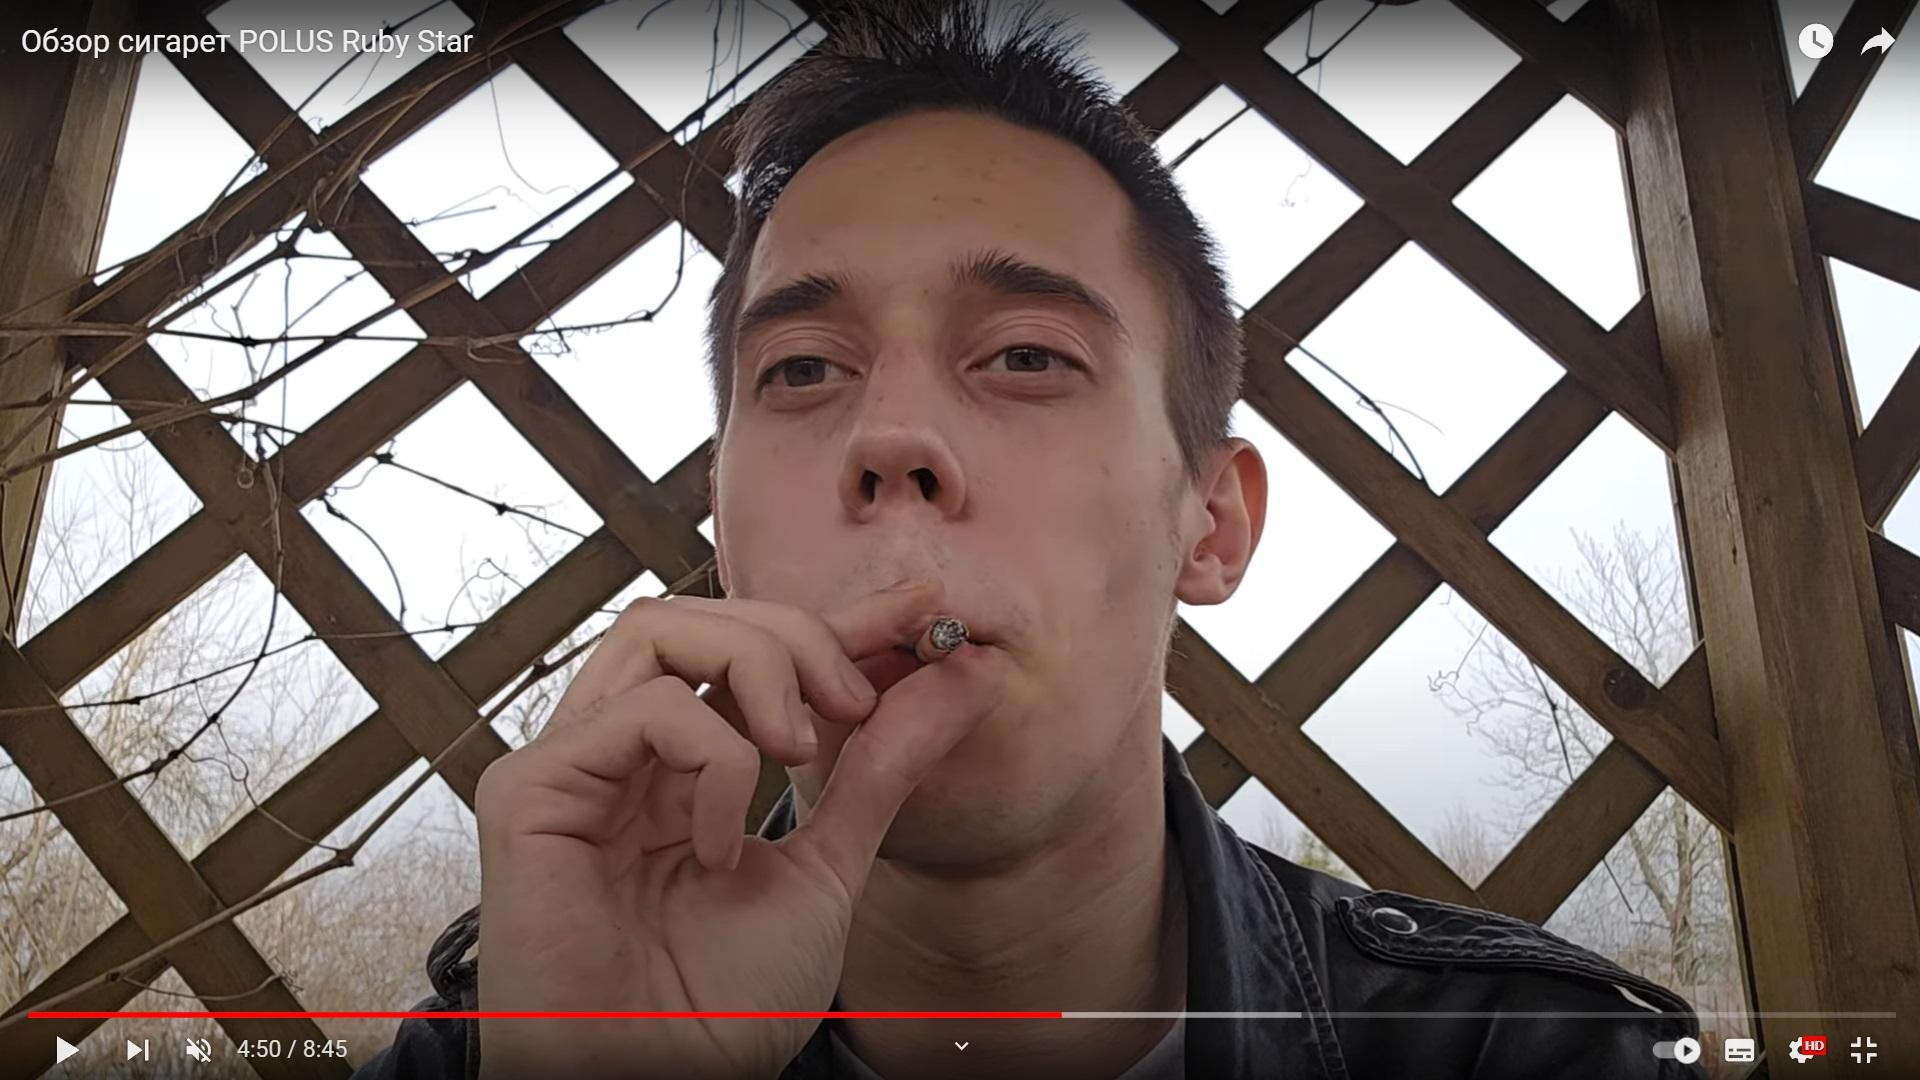cigarette: (914, 618, 968, 666)
